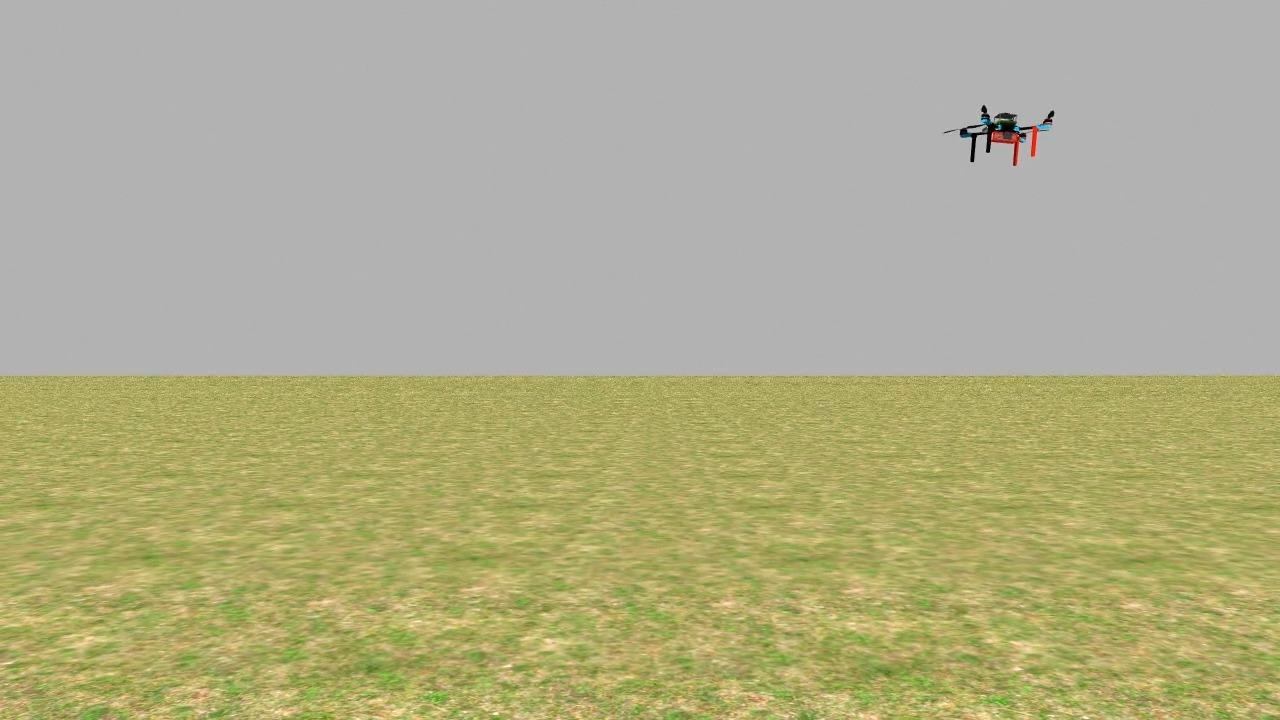UAV: (950, 109, 1057, 178)
